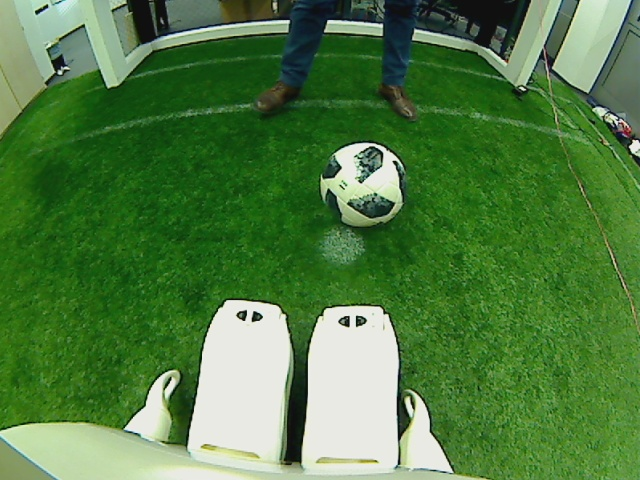ball: (323, 136, 404, 228)
